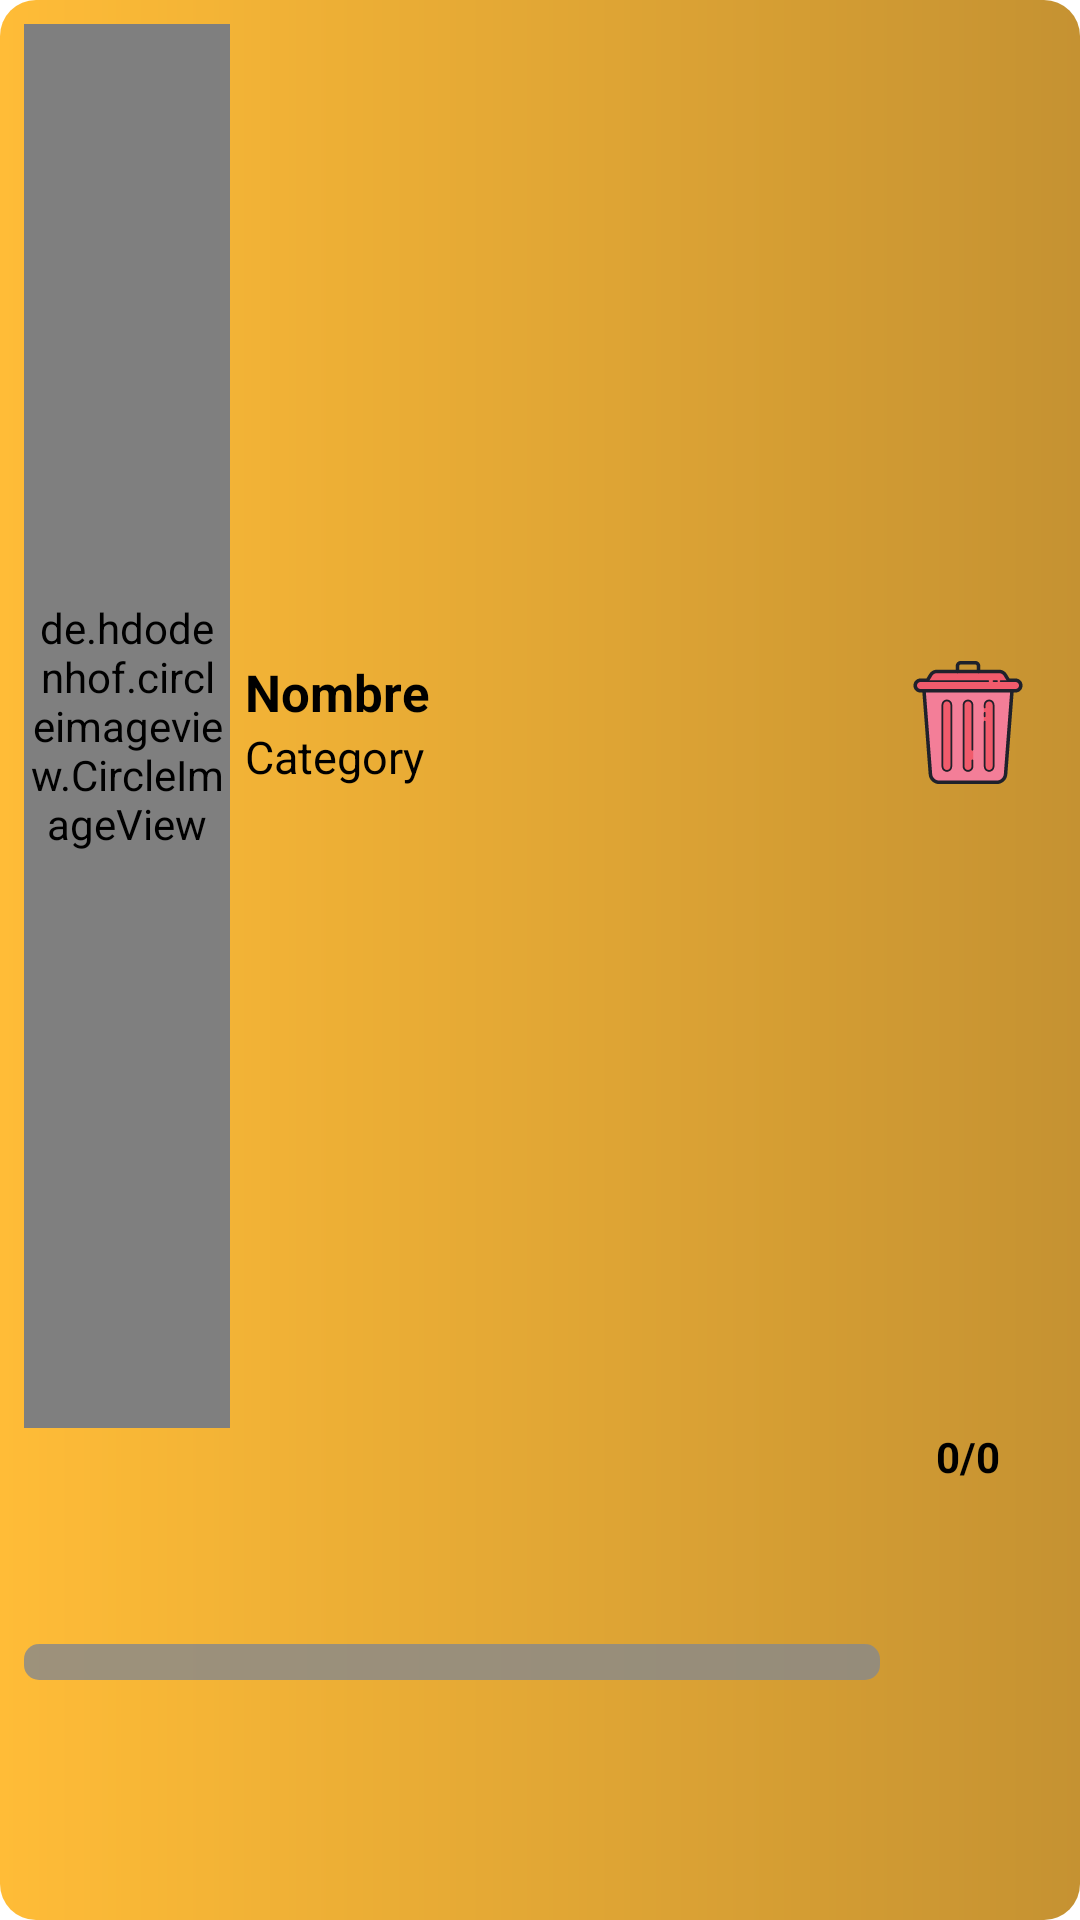

Named icons in this screenshot (1080×1920) and their centers, [x,y]:
delete: [968,722]
